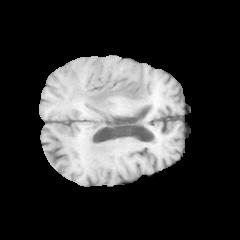glioma: (68, 69, 151, 117)
